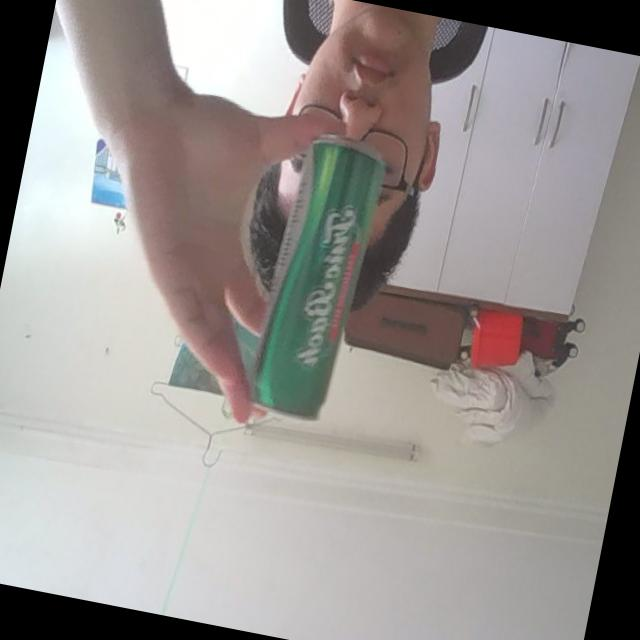Bia-Truc-Bach: (241, 129, 395, 431)
